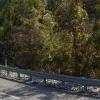Tree: (13, 2, 99, 71)
